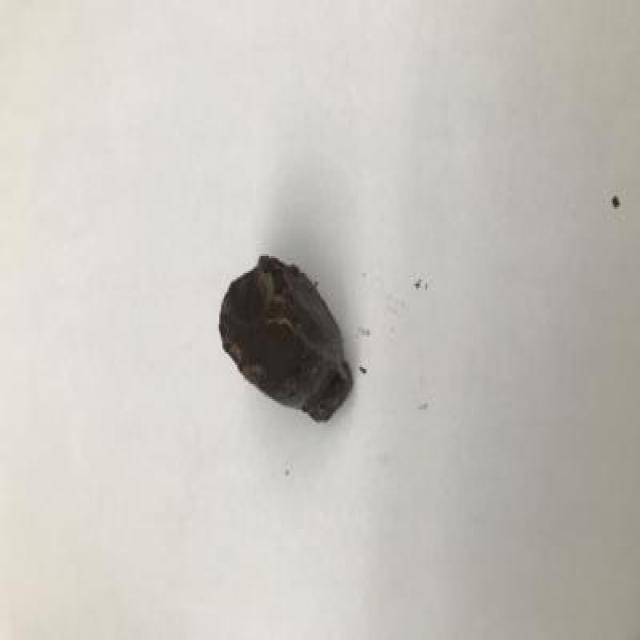compost: (192, 224, 404, 455)
